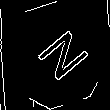N_SW: (23, 23, 87, 87)
